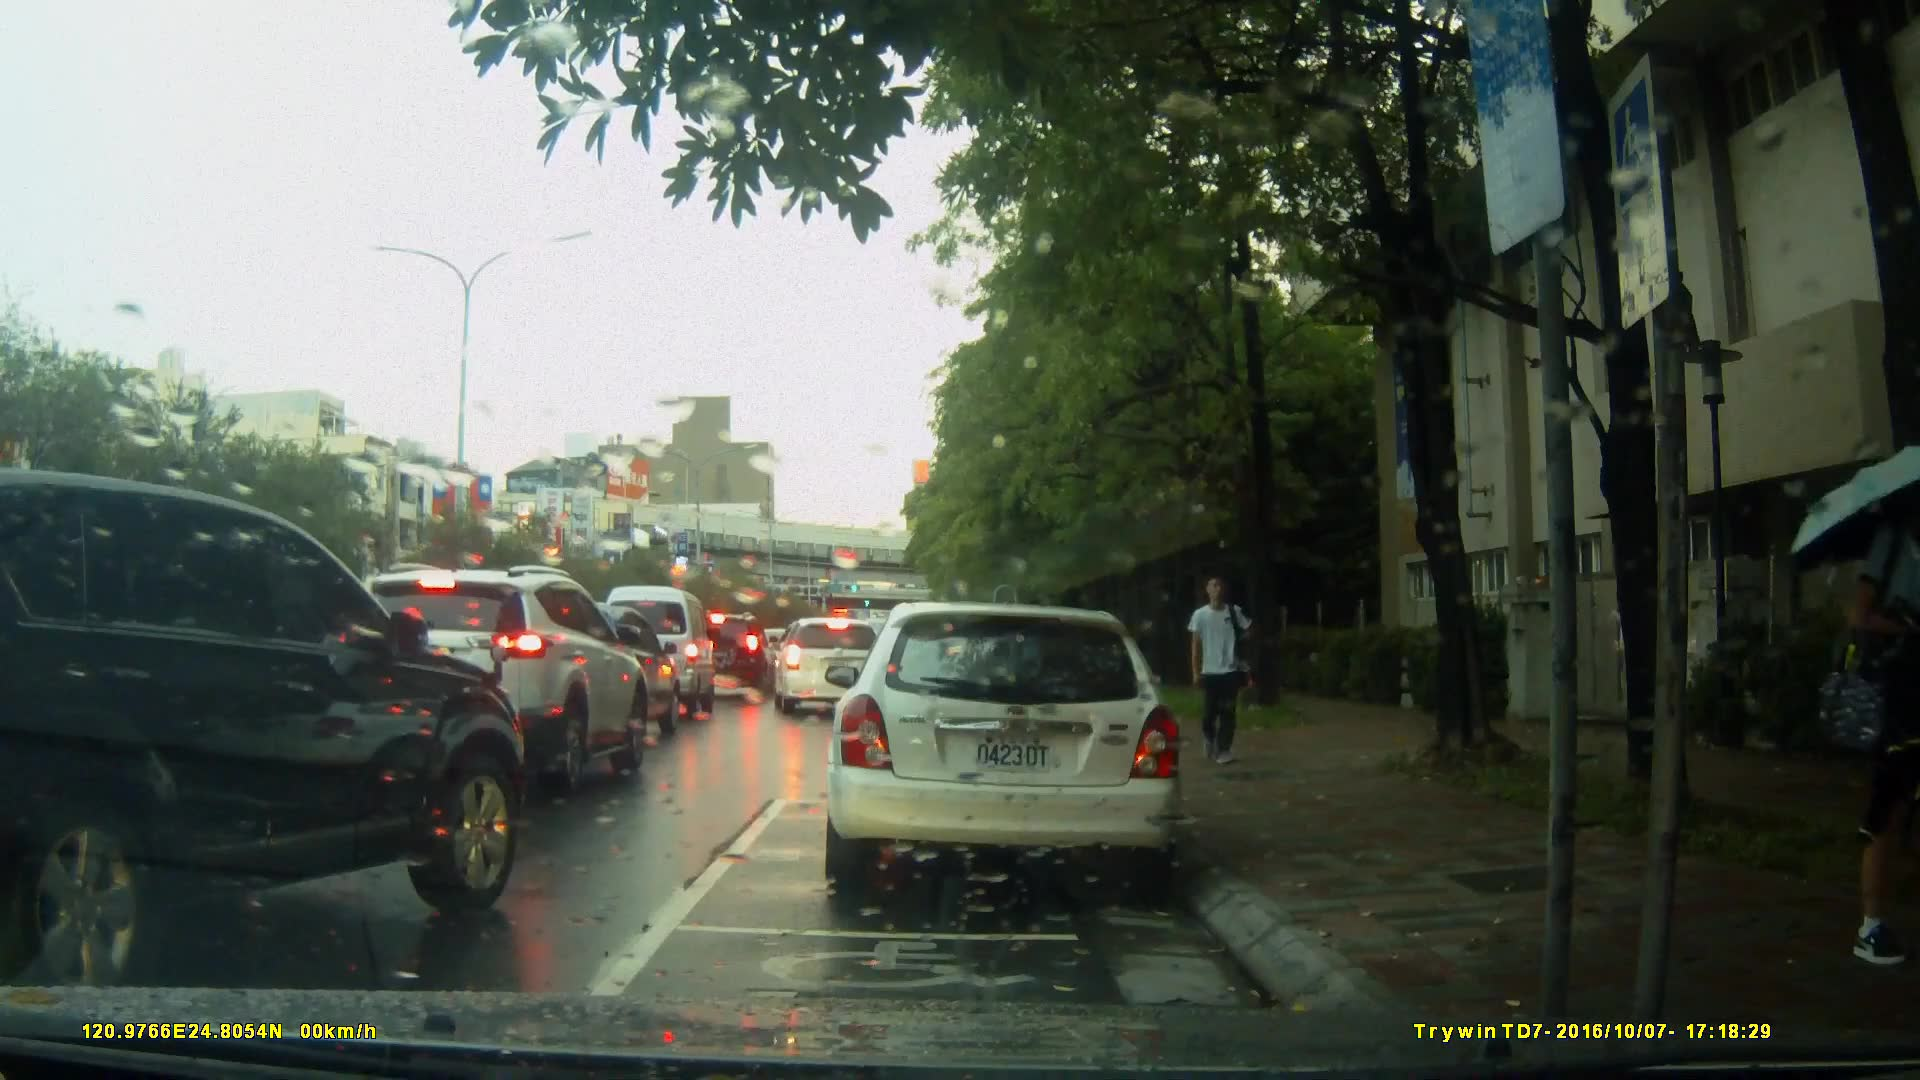pedestrian: (1828, 474, 1910, 969), (1182, 569, 1260, 781)
vehicle: (1, 468, 530, 988), (820, 602, 1188, 898), (333, 563, 657, 791), (525, 604, 688, 739), (596, 584, 721, 722), (772, 617, 892, 716), (685, 612, 771, 696)
